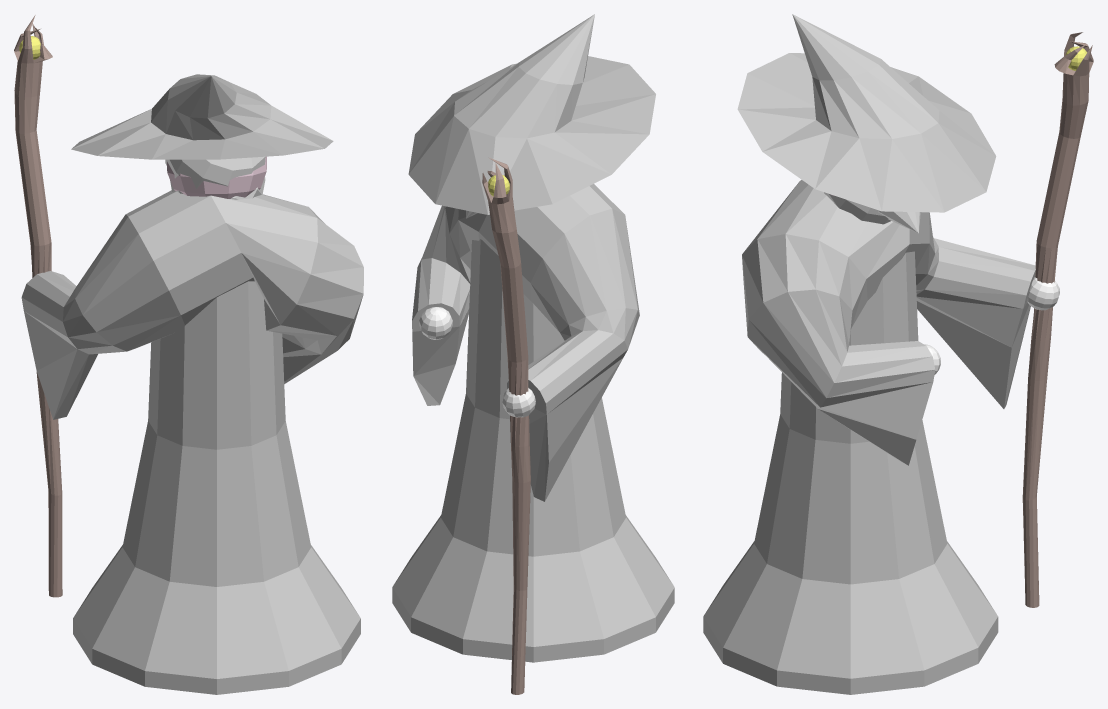
The model's file is bN9DnRavONC.glb.
The picture shows the model from 3 angles, left to right: view 1: azimuth 30°, elevation 25°; view 2: azimuth 150°, elevation 25°; view 3: azimuth 270°, elevation 25°; orthographic projection. The views are drawn at different scales.
Visible parts, largest first — view 1: group1309011883; view 2: group1309011883; view 3: group1309011883.
Part boxes in pixels (x1,y1,x2,y2): group1309011883: (14,15,363,694); group1309011883: (392,14,674,694); group1309011883: (703,14,1093,694).
Bounding box in the file's own units: 0.332 × 0.7536 × 0.4369.
Materials: 1 (1 with a texture image).
